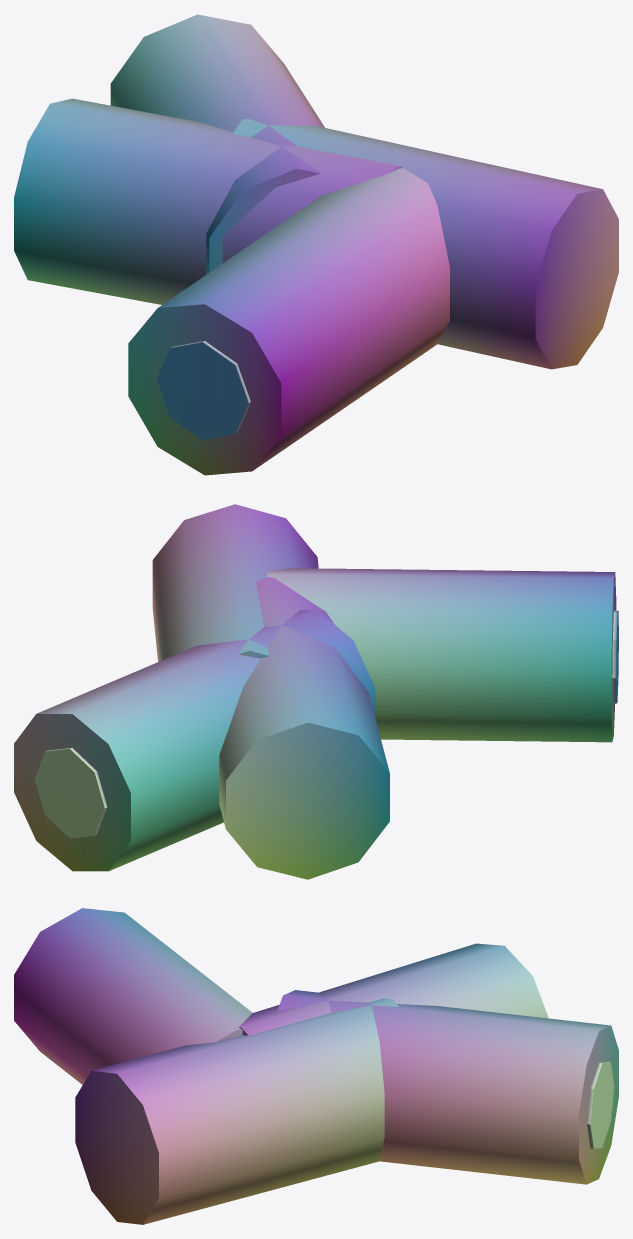
The model's file is env_deco_pasta.glb.
3 renders of one model, top to bottom at view 1: azimuth 30°, elevation 25°; view 2: azimuth 150°, elevation 25°; view 3: azimuth 270°, elevation 25°, orthographic. The views are drawn at different scales.
Visible parts, largest first — view 1: env_deco_pasta_mesh; view 2: env_deco_pasta_mesh; view 3: env_deco_pasta_mesh.
Part boxes in pixels (x1,y1,x2,y2): env_deco_pasta_mesh: [14, 14, 618, 475]; env_deco_pasta_mesh: [14, 504, 618, 879]; env_deco_pasta_mesh: [14, 908, 618, 1224].
Size of the model in its own units: 0.2118 by 0.07 by 0.259.
